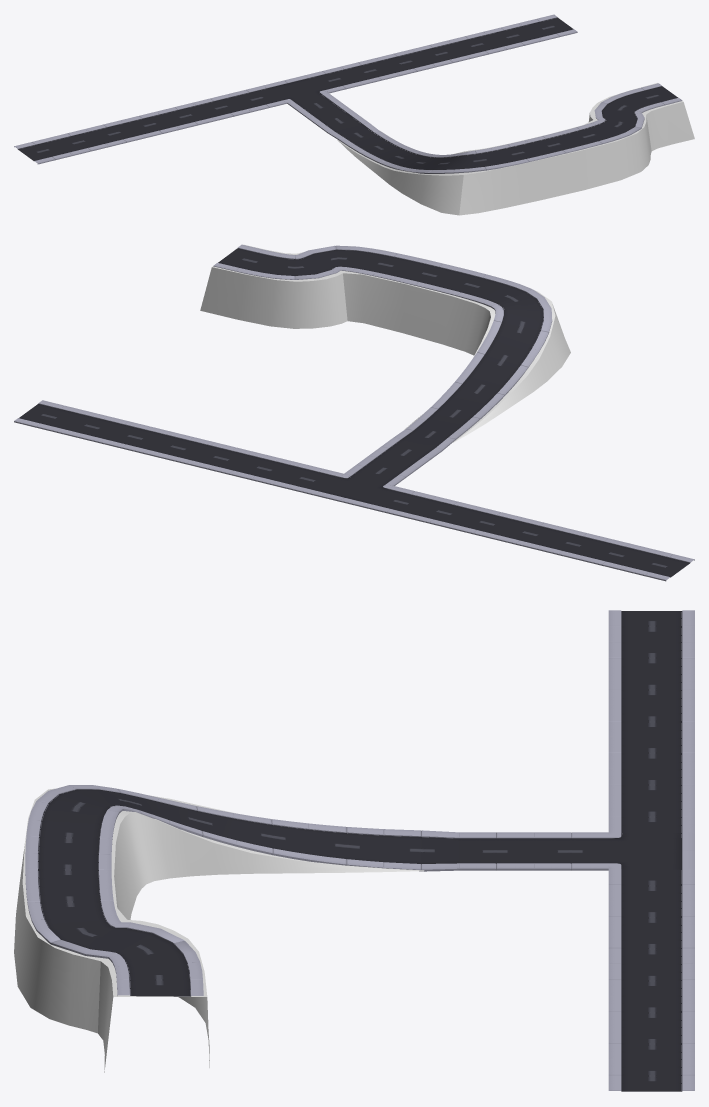
The model's file is street.fbx.
3 views of the same model, one above another, from view 1: azimuth 30°, elevation 25°; view 2: azimuth 150°, elevation 25°; view 3: azimuth 270°, elevation 25° (orthographic). The views are drawn at different scales.
Visible parts, largest first — view 1: Road; view 2: Road; view 3: Road.
Part boxes in pixels (x1,y1,x2,y2): Road: [14, 14, 694, 215]; Road: [14, 244, 694, 581]; Road: [14, 610, 694, 1091].
Bounding box in the file's own units: 207 × 14.46 × 124.
